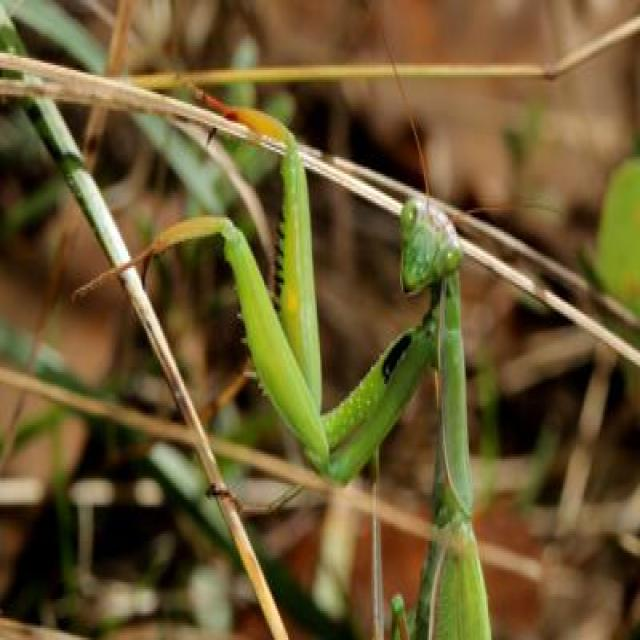antennae: (382, 28, 433, 216), (442, 204, 558, 229)
body: (402, 198, 489, 640)
insect: (70, 21, 556, 640)
legs: (172, 72, 438, 454), (73, 215, 436, 485)
mouthpart: (397, 257, 427, 302)
